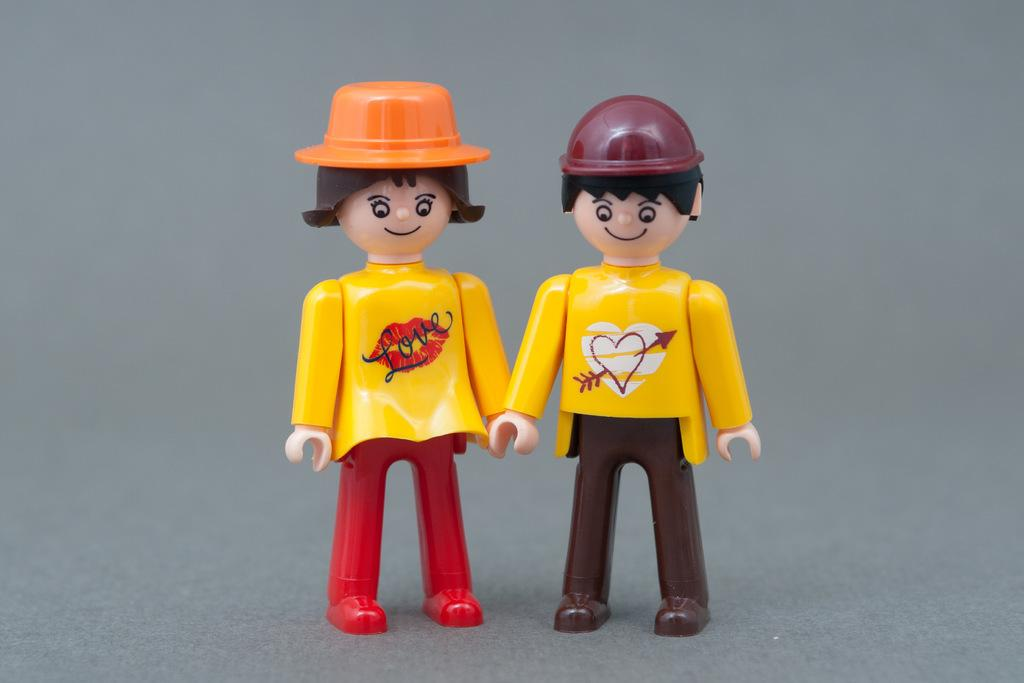Hat: (294, 75, 492, 170)
